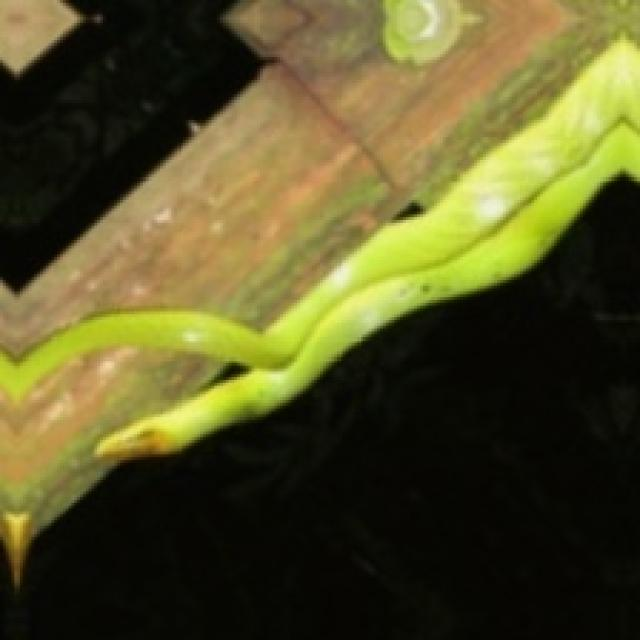red-tailed green ratsnake: (0, 40, 637, 586), (54, 346, 246, 403)
